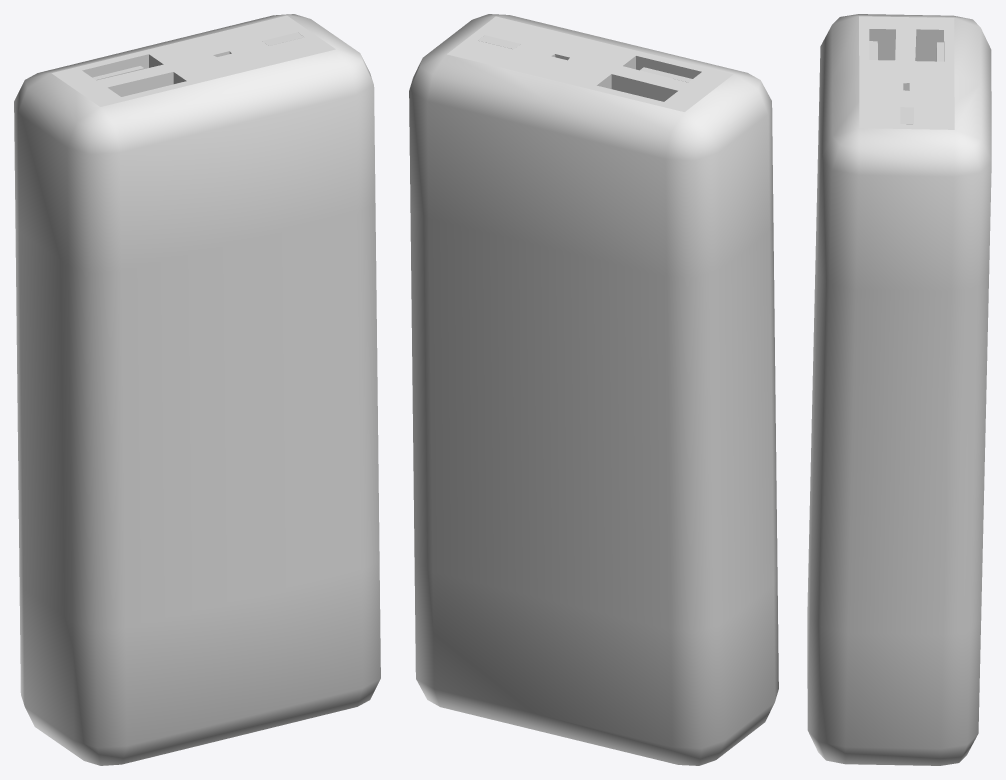
The model's file is 보조배터리.fbx.
The picture shows the model from 3 angles, left to right: view 1: azimuth 30°, elevation 25°; view 2: azimuth 150°, elevation 25°; view 3: azimuth 270°, elevation 25°; orthographic projection. The views are drawn at different scales.
Visible parts, largest first — view 1: ChamferBox001; view 2: ChamferBox001; view 3: ChamferBox001.
Boxes of the visible parts, x1,y1,x2,y2 form: ChamferBox001: (14,14,380,765); ChamferBox001: (409,14,778,765); ChamferBox001: (807,14,991,765).
Size of the model in its own units: 22.85 by 47.01 by 12.37.
1 material, 1 textured.
